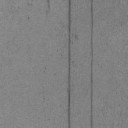surface scratch: (67, 0, 72, 128), (90, 0, 94, 128), (46, 0, 50, 9)
